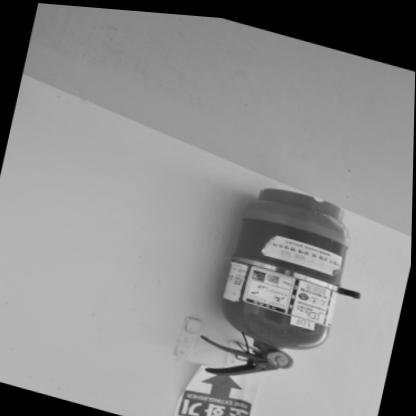FE: (194, 166, 358, 399)
